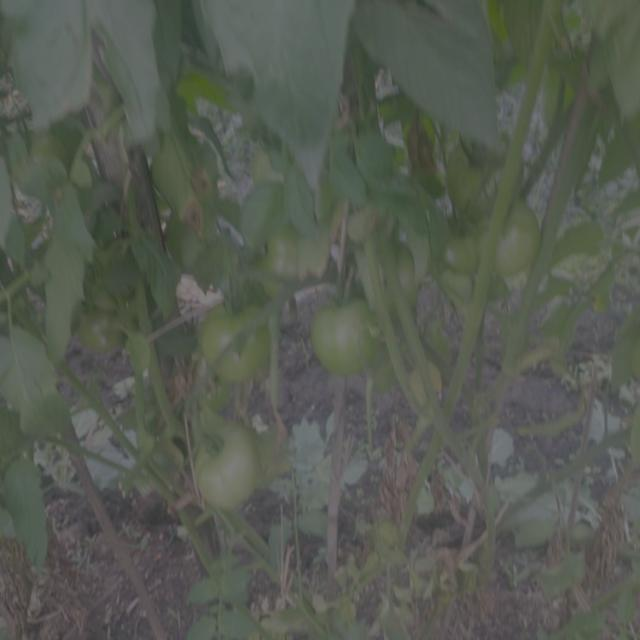tomato: (191, 413, 268, 509), (195, 304, 283, 387), (487, 196, 548, 280), (314, 299, 383, 372), (450, 132, 515, 200), (155, 139, 211, 214), (10, 121, 66, 190), (76, 300, 133, 362), (366, 236, 418, 299), (258, 224, 306, 282), (77, 135, 119, 193), (441, 219, 482, 275), (172, 221, 215, 274), (364, 513, 403, 553), (247, 143, 281, 188)
